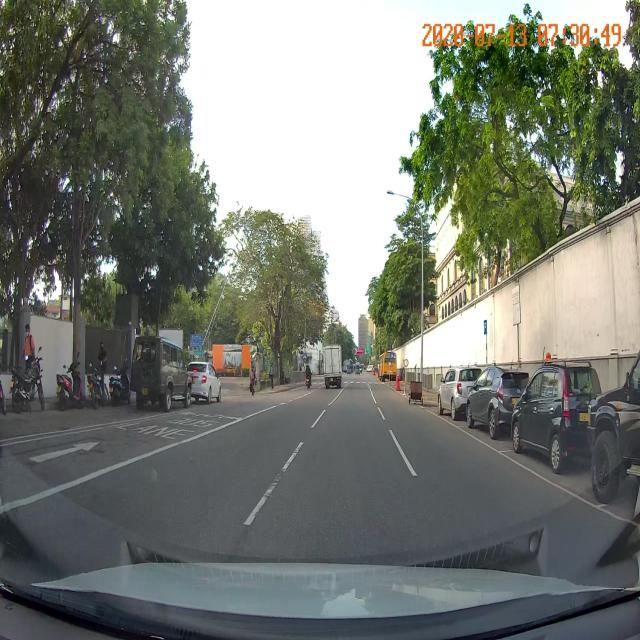BUS LANE: (111, 413, 229, 444)
Strelka vpered: (25, 441, 101, 464)
